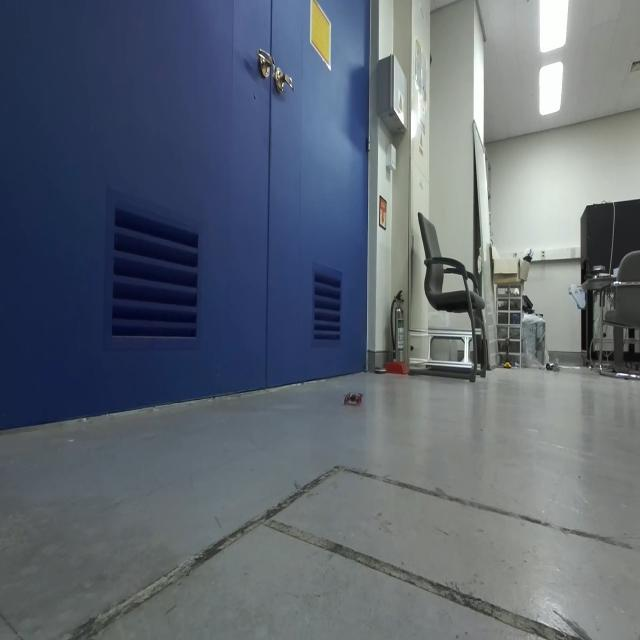crazyflie: (342, 385, 368, 410)
